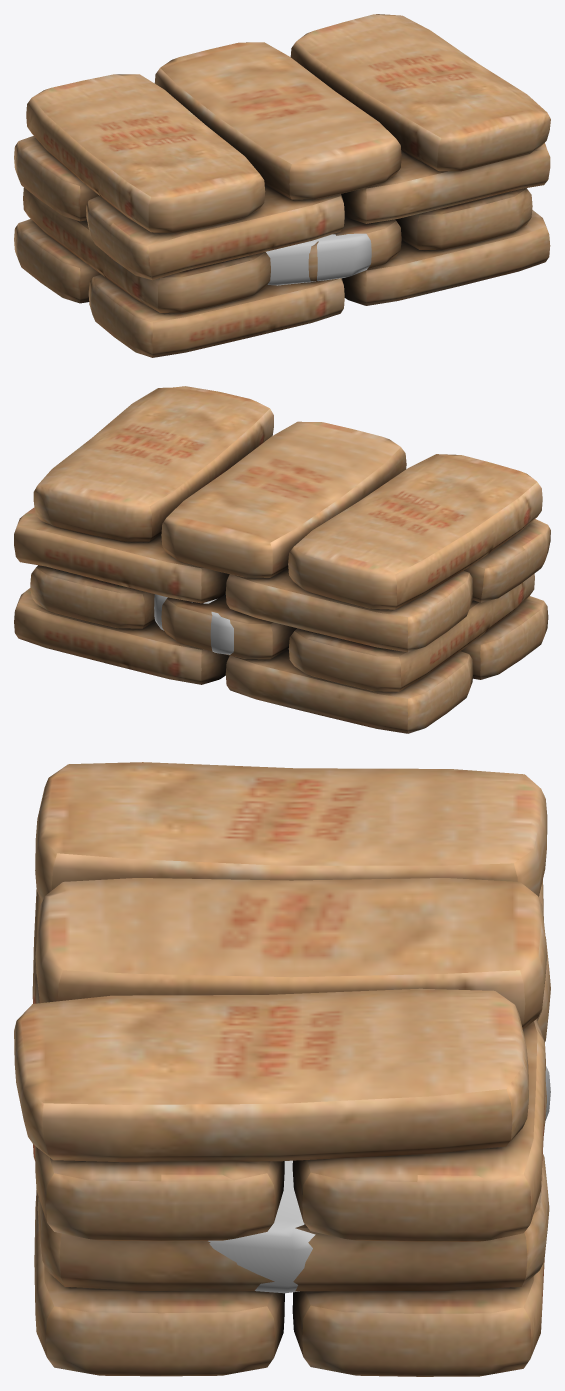
The model's file is palette_zementsaecke_typ2.fbx.
The picture shows the model from 3 angles, top to bottom: view 1: azimuth 30°, elevation 25°; view 2: azimuth 150°, elevation 25°; view 3: azimuth 270°, elevation 25°; orthographic projection. The views are drawn at different scales.
Visible parts, largest first — view 1: Mesh, Mesh_ncl1_2; view 2: Mesh, Mesh_ncl1_2; view 3: Mesh, Mesh_ncl1_2.
Part boxes in pixels (bbox=[...]): Mesh: bbox=[14, 14, 550, 357]; Mesh_ncl1_2: bbox=[266, 233, 371, 285]; Mesh: bbox=[14, 386, 550, 733]; Mesh_ncl1_2: bbox=[154, 594, 233, 654]; Mesh: bbox=[14, 762, 550, 1376]; Mesh_ncl1_2: bbox=[208, 1066, 550, 1293].
Bounding box in the file's own units: 137 × 51.23 × 87.7.
